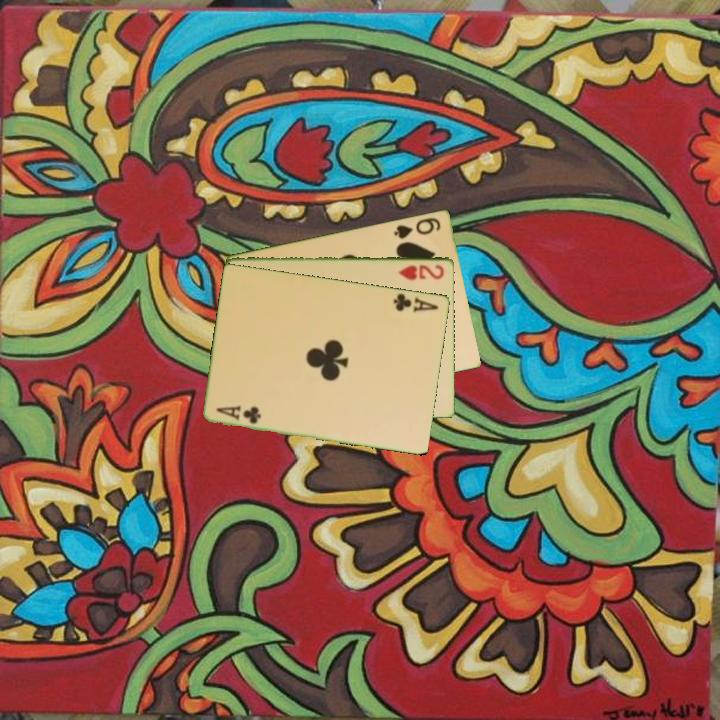2h: (395, 261, 447, 282)
6s: (391, 214, 444, 241)
Ac: (213, 401, 264, 427), (390, 289, 441, 314)
